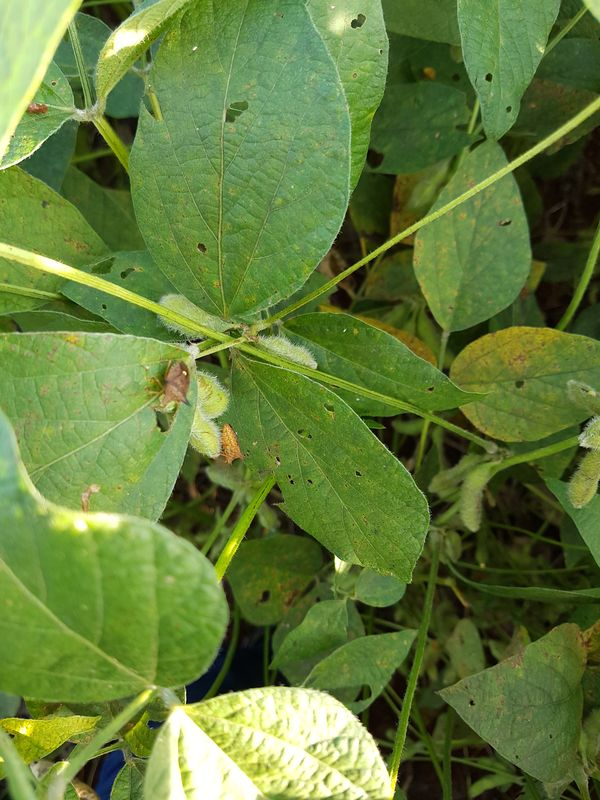Euschistus_heros_adulto: (143, 353, 198, 418), (206, 418, 253, 467)
